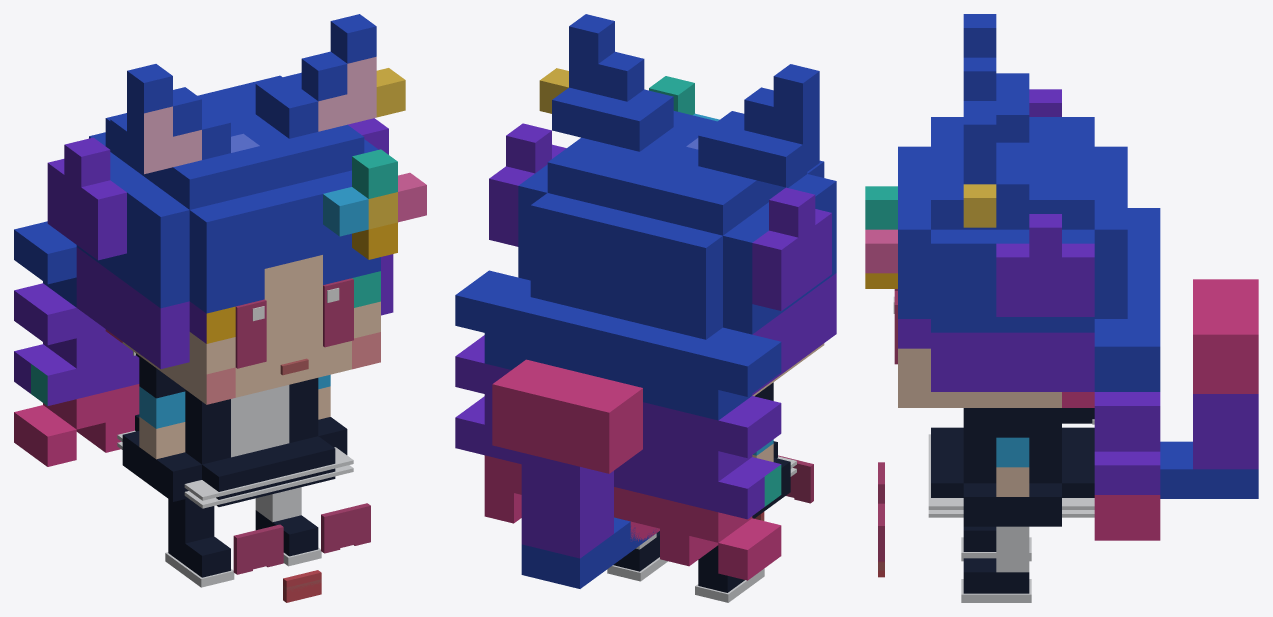
File: gemini.glb
The picture shows the model from 3 angles, left to right: view 1: azimuth 30°, elevation 25°; view 2: azimuth 150°, elevation 25°; view 3: azimuth 270°, elevation 25°; orthographic projection. The views are drawn at different scales.
Visible parts, largest first — view 1: head, hairback, body, face_open, footB, face_happy, armB, footA, face_tight, armA; view 2: head, hairback, tail, footB, footA, face_happy, body; view 3: head, hairback, tail, body, footA, armA, footB, face_happy.
Part boxes in pixels (bbox=[...]): head: bbox=[47, 14, 426, 404]; hairback: bbox=[14, 221, 139, 466]; body: bbox=[117, 351, 353, 508]; face_open: bbox=[235, 278, 353, 375]; footB: bbox=[165, 498, 234, 587]; face_happy: bbox=[233, 503, 370, 602]; armB: bbox=[139, 356, 185, 459]; footA: bbox=[255, 487, 321, 566]; face_tight: bbox=[233, 528, 359, 591]; armA: bbox=[318, 374, 330, 419]; head: bbox=[489, 14, 836, 396]; hairback: bbox=[455, 270, 781, 580]; tail: bbox=[492, 359, 656, 588]; footB: bbox=[695, 545, 764, 602]; footA: bbox=[607, 531, 667, 581]; face_happy: bbox=[754, 455, 813, 520]; body: bbox=[752, 441, 796, 518]; head: bbox=[865, 14, 1127, 407]; hairback: bbox=[1094, 208, 1160, 540]; tail: bbox=[1160, 279, 1258, 498]; body: bbox=[928, 408, 1094, 526]; footA: bbox=[961, 526, 1031, 602]; armA: bbox=[996, 408, 1029, 496]; footB: bbox=[961, 526, 1031, 561]; face_happy: bbox=[878, 462, 884, 577].
Size of the model in its own units: 0.7 by 1.19 by 0.84.
